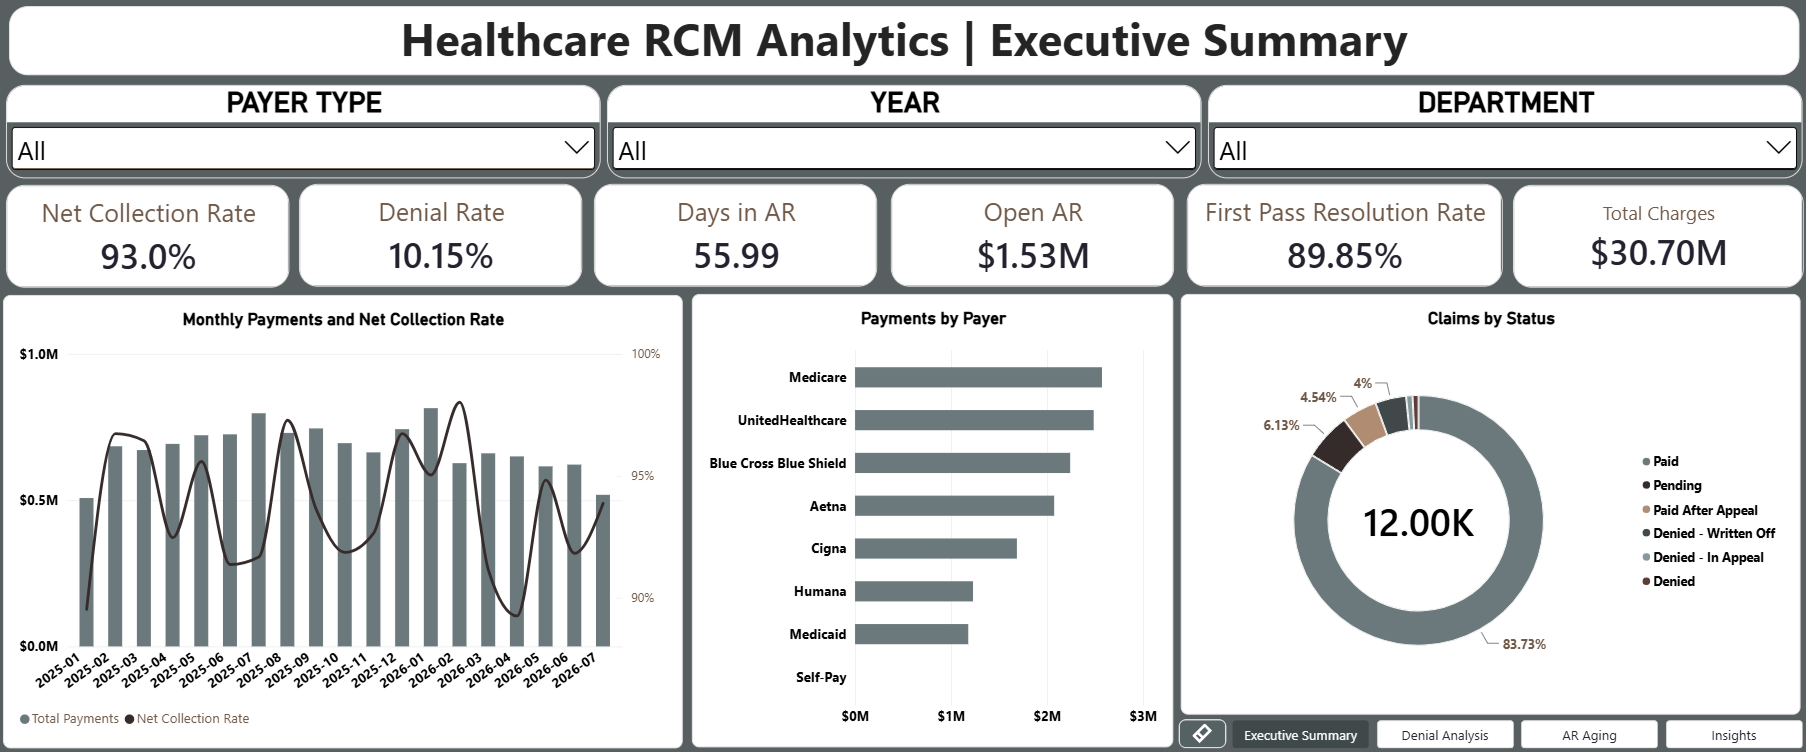

The page's visual inventory and layout, read from the dashboard file:
{"tool":"powerbi","page":{"name":"Executive Summary","canvas":[1920,800],"ordinal":0},"visuals":[{"type":"slicer","title":"YEAR","fields":{"Values":["Dim_Date.Year"]},"box":[645.5,92.2,629.9,98.7],"z":0},{"type":"slicer","title":"PAYER TYPE","fields":{"Values":["dim_payer.payer_type"]},"box":[9.1,92.2,629.9,98.7],"z":1000},{"type":"cardVisual","fields":{"Data":["_measures.Net Collection Rate"]},"box":[9.1,197.4,300,109.1],"z":2000},{"type":"cardVisual","fields":{"Data":["_measures.Denial Rate"]},"box":[318.7,197,300,109],"z":3000},{"type":"cardVisual","fields":{"Data":["_measures.First Pass Resolution Rate"]},"box":[1258.7,197,334.7,109],"z":4000},{"type":"cardVisual","fields":{"Data":["_measures.Days in AR"]},"box":[630.7,197,300,109],"z":5000},{"type":"cardVisual","fields":{"Data":["_measures.Open AR"]},"box":[945.4,197,300,109],"z":6000},{"type":"lineClusteredColumnComboChart","title":"Monthly Payments and Net Collection Rate","fields":{"Category":["Dim_Date.Year-Month"],"Y":["_measures.Total Payments"],"Y2":["_measures.Net Collection Rate"]},"box":[5.2,314.3,719.5,480.5],"z":7000},{"type":"clusteredBarChart","title":"Payments by Payer","fields":{"Category":["dim_payer.payer_name"],"Y":["_measures.Total Payments"]},"box":[735,313.8,510,480],"z":8000},{"type":"donutChart","title":"Claims by Status","fields":{"Category":["fact_claims.claim_status"],"Y":["_measures.Total Claims"]},"box":[1252.7,313.9,656.2,445.3],"z":9000},{"type":"cardVisual","fields":{"Data":["_measures.Total Charges"]},"box":[1639.1,896.6,279.5,156.5],"z":10000},{"type":"cardVisual","fields":{"Data":["_measures.Total Charges"]},"box":[1603.9,197.4,307.8,109.1],"z":11000},{"type":"slicer","title":"DEPARTMENT","fields":{"Values":["dim_provider.department"]},"box":[1281.8,92.2,629.9,98.7],"z":12000},{"type":"textbox","box":[12.1,8.8,1895.6,73.6],"z":13000},{"type":"pageNavigator","box":[1307.1,764.3,607.8,30.5],"z":14000},{"type":"actionButton","box":[1250,763.6,50.7,30.7],"z":15000}]}

Visuals, with their boxes in screenshot pixels (x1, y1, x2, y2), scaled from the page's 1920x800 canvas onto the 1806x752 screenshot:
"YEAR" slicer: {"x1": 607, "y1": 87, "x2": 1200, "y2": 179}
"PAYER TYPE" slicer: {"x1": 9, "y1": 87, "x2": 601, "y2": 179}
cardVisual - _measures.Net Collection Rate: {"x1": 9, "y1": 186, "x2": 291, "y2": 288}
cardVisual - _measures.Denial Rate: {"x1": 300, "y1": 185, "x2": 582, "y2": 288}
cardVisual - _measures.First Pass Resolution Rate: {"x1": 1184, "y1": 185, "x2": 1499, "y2": 288}
cardVisual - _measures.Days in AR: {"x1": 593, "y1": 185, "x2": 875, "y2": 288}
cardVisual - _measures.Open AR: {"x1": 889, "y1": 185, "x2": 1171, "y2": 288}
"Monthly Payments and Net Collection Rate" lineClusteredColumnComboChart: {"x1": 5, "y1": 295, "x2": 682, "y2": 747}
"Payments by Payer" clusteredBarChart: {"x1": 691, "y1": 295, "x2": 1171, "y2": 746}
"Claims by Status" donutChart: {"x1": 1178, "y1": 295, "x2": 1796, "y2": 714}
cardVisual - _measures.Total Charges: {"x1": 1509, "y1": 186, "x2": 1798, "y2": 288}
"DEPARTMENT" slicer: {"x1": 1206, "y1": 87, "x2": 1798, "y2": 179}
textbox: {"x1": 11, "y1": 8, "x2": 1794, "y2": 77}
pageNavigator: {"x1": 1229, "y1": 718, "x2": 1801, "y2": 747}
actionButton: {"x1": 1176, "y1": 718, "x2": 1223, "y2": 747}
